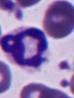D: (2, 27, 50, 70)
